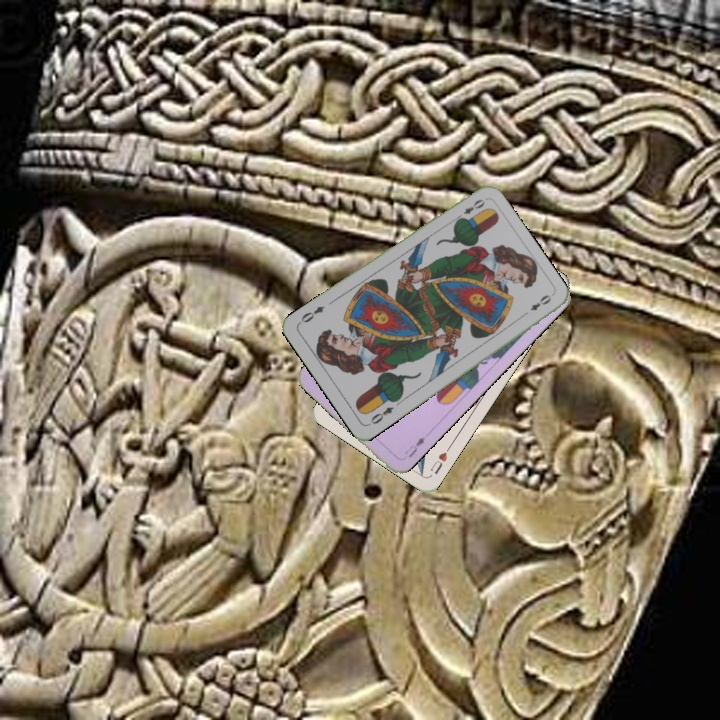EO: (452, 195, 488, 223), (364, 403, 396, 428)
EU: (400, 430, 430, 460)
HU: (426, 448, 450, 477)
